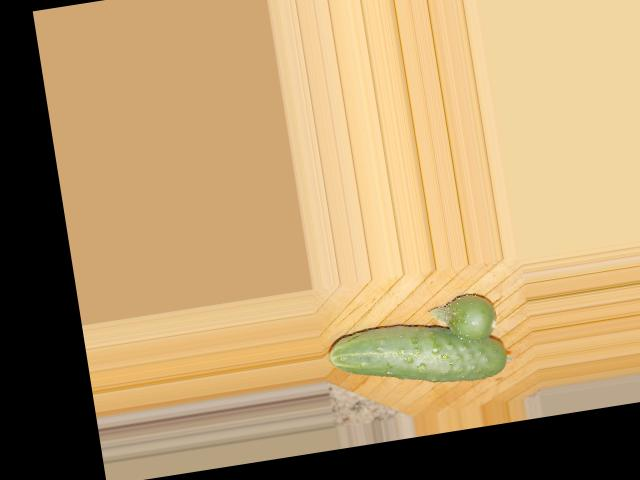cucumber: (325, 308, 510, 401)
